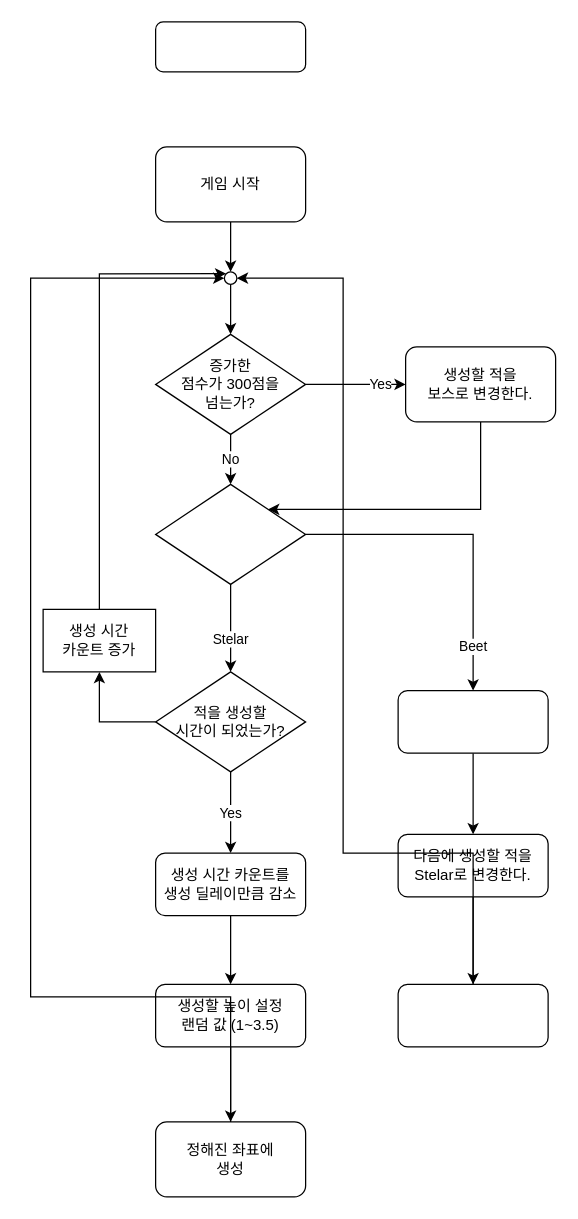
Some shapes in this 578 by 1219 pixel diagram are drawn without their labels. The shapes that lost their labels are listed below. From the top down, each one's centre as x and y in pixels, then its label:
At (x=230, y=46): "적 캐릭터 생성".
At (x=230, y=533): "생성할 적이 무엇인가?".
At (x=472, y=721): "적을 생성한다. 생성할 높이 고정(0)".
At (x=472, y=1015): "적 생성 딜레이를 기존에 비해서 1.5~2배로 늘린다.".
